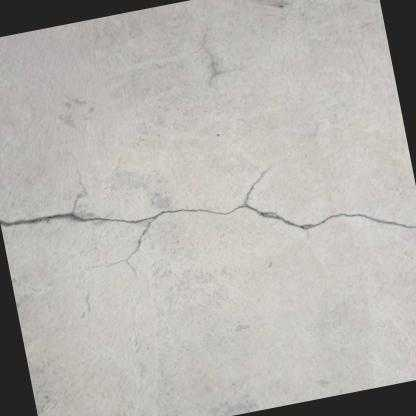crack: (0, 163, 416, 282)
